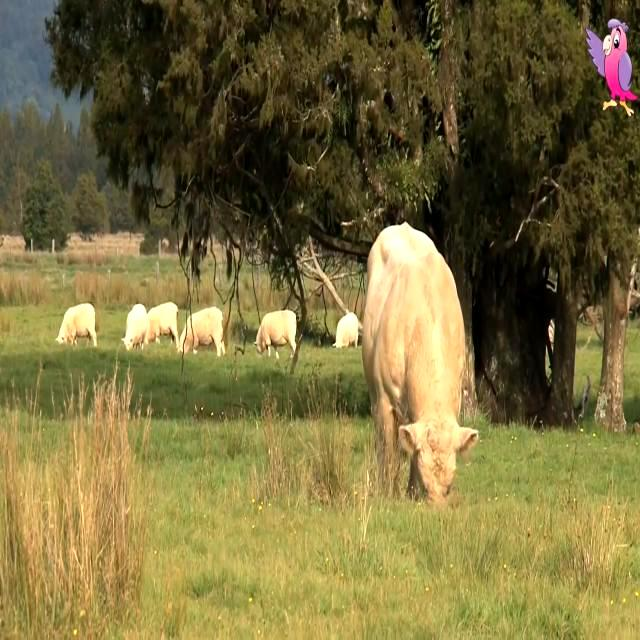COW: (362, 224, 479, 503)
